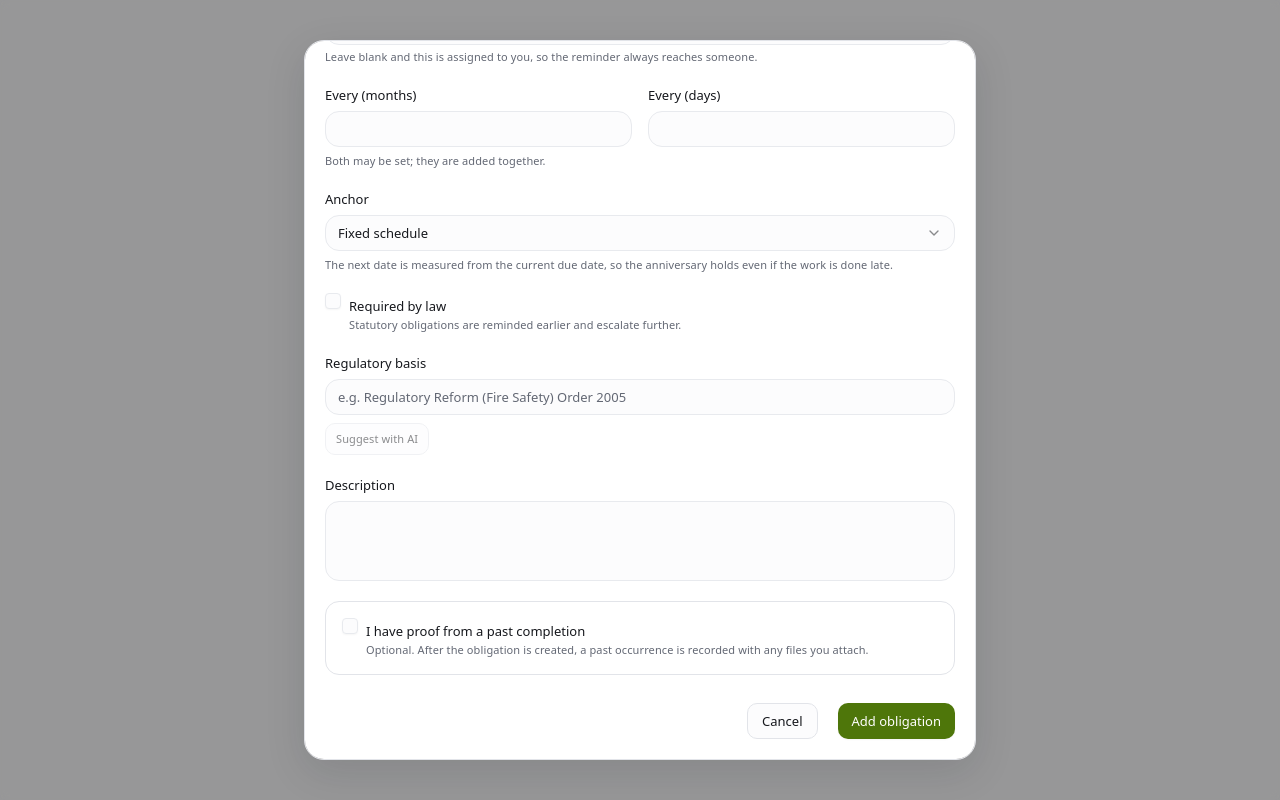
Scenario: RequirementFormDialog — create › blocks submit until the required fields are present
(page scrolled)
Click the button with test id "requirement-form-submit": (896, 721) 838,703 -> 955,739
(page scrolled)
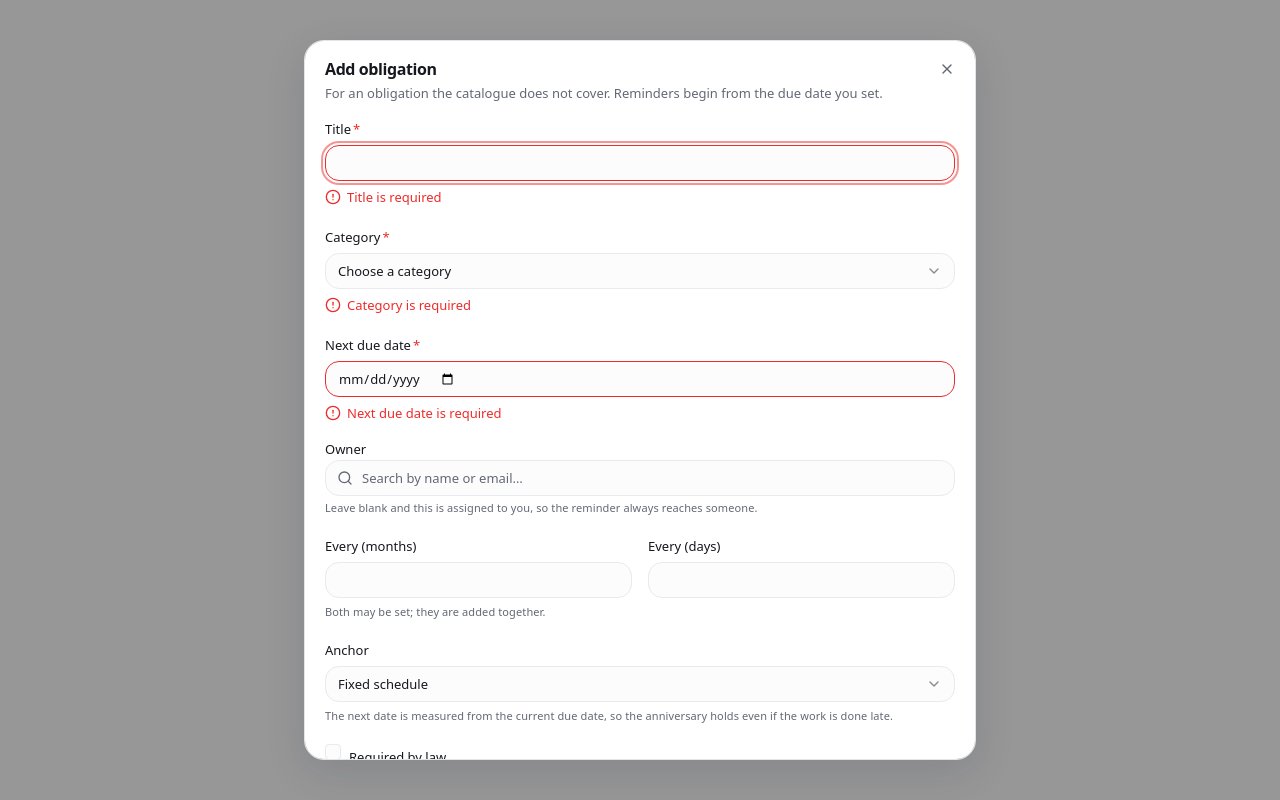
Result: the message "Title is required" is shown at 325,188 -> 442,206
